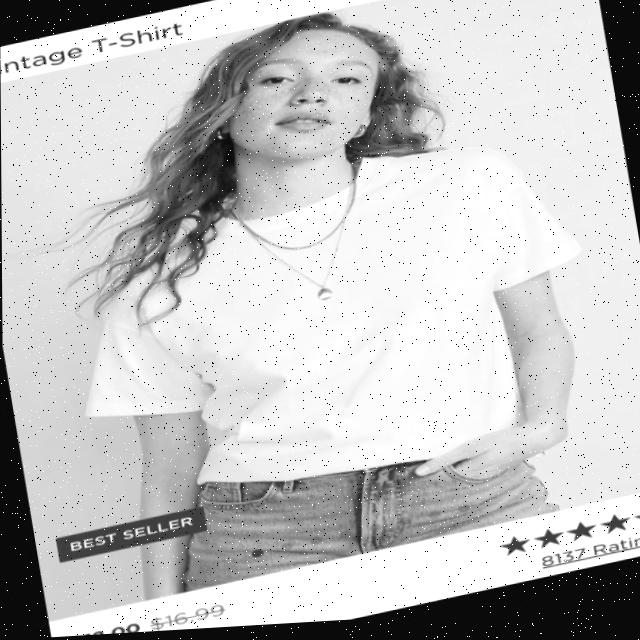Upper-Body: (90, 156, 581, 486)
